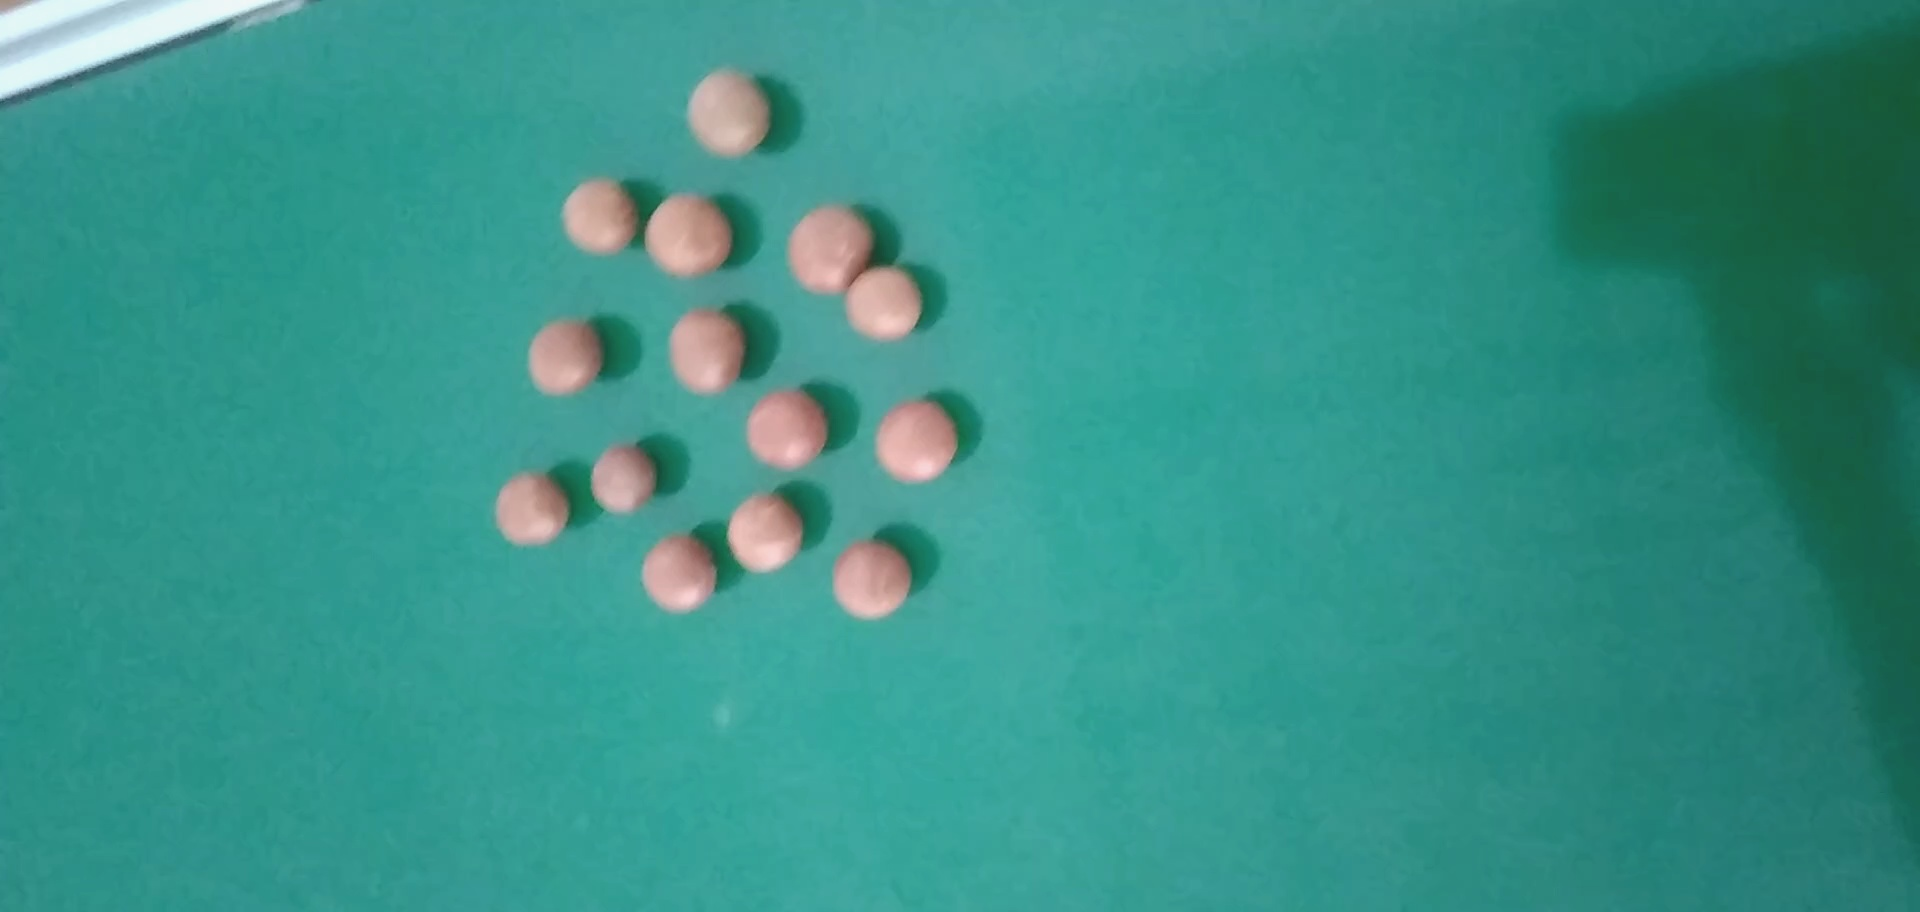mac: (684, 66, 773, 159), (644, 193, 732, 279), (787, 204, 873, 293), (873, 403, 958, 485), (835, 535, 911, 622), (562, 175, 638, 261), (748, 392, 827, 470), (726, 493, 803, 573), (669, 311, 743, 393), (492, 473, 571, 548), (528, 318, 601, 395), (640, 535, 714, 612), (846, 268, 920, 340), (591, 444, 658, 513)
